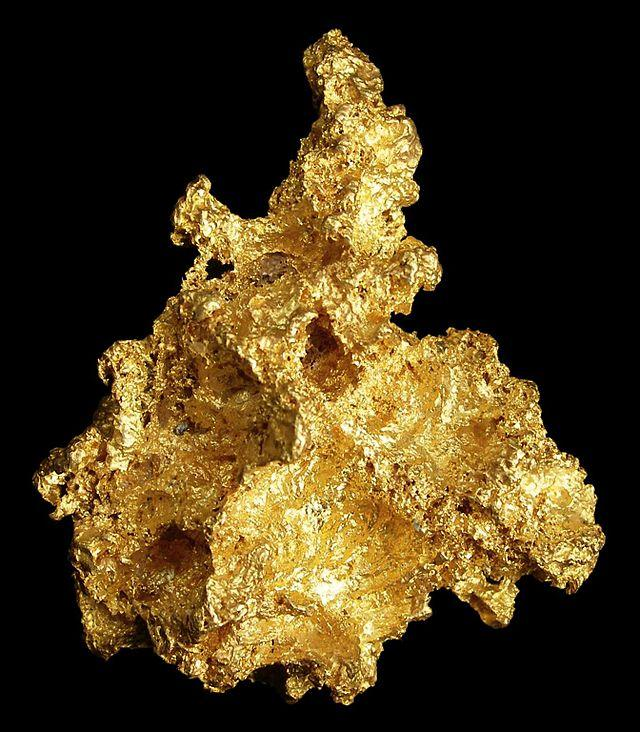gold: (24, 24, 611, 717)
